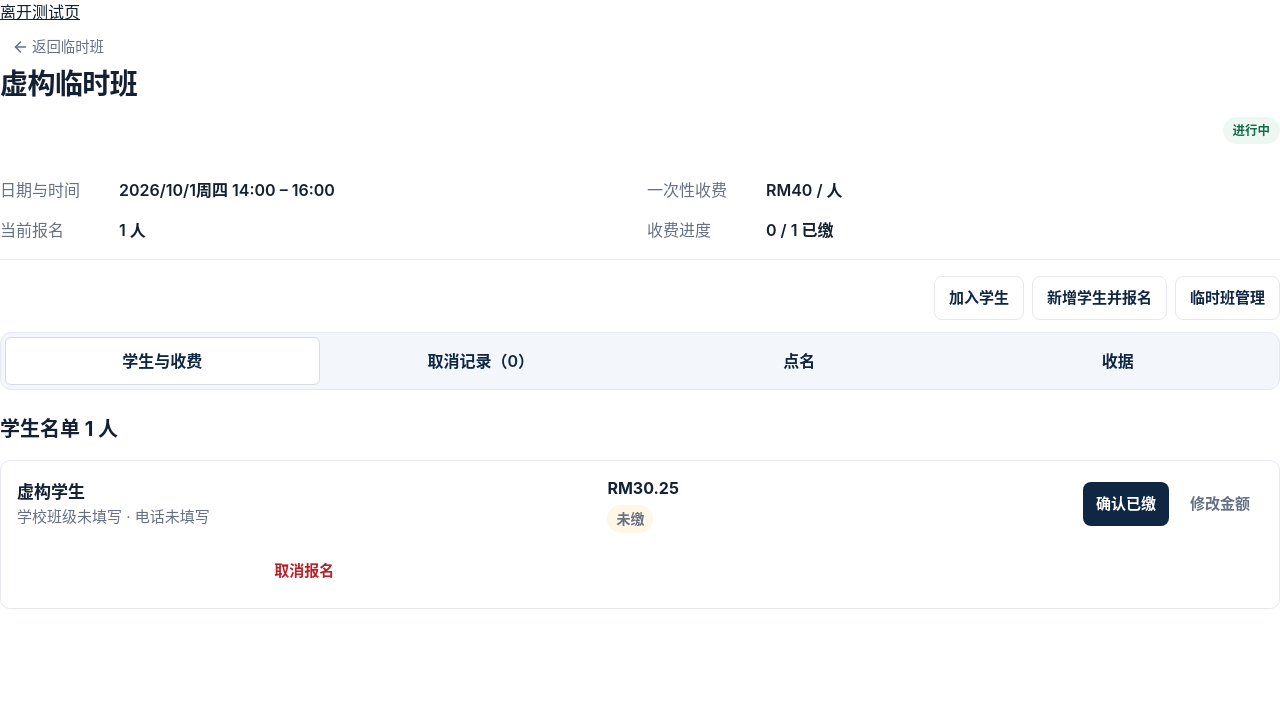
Test: a cross-client cancellation refresh cannot unmount an open confirmation or silently discard its conflict feedback
Click the button "取消报名" at (304, 570), box [17, 548, 591, 592]
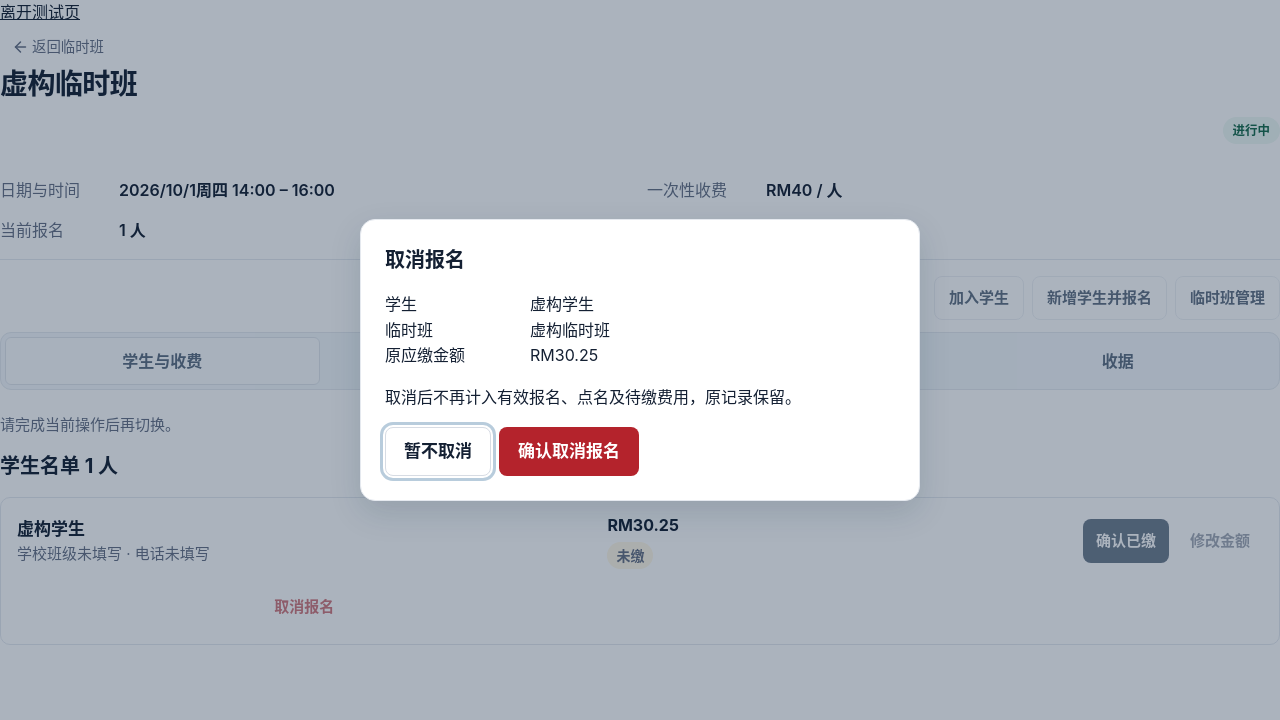
Result: the dialog is shown at [360, 219, 920, 501]
Click the button "确认取消报名" at (569, 451), box [499, 427, 639, 476]
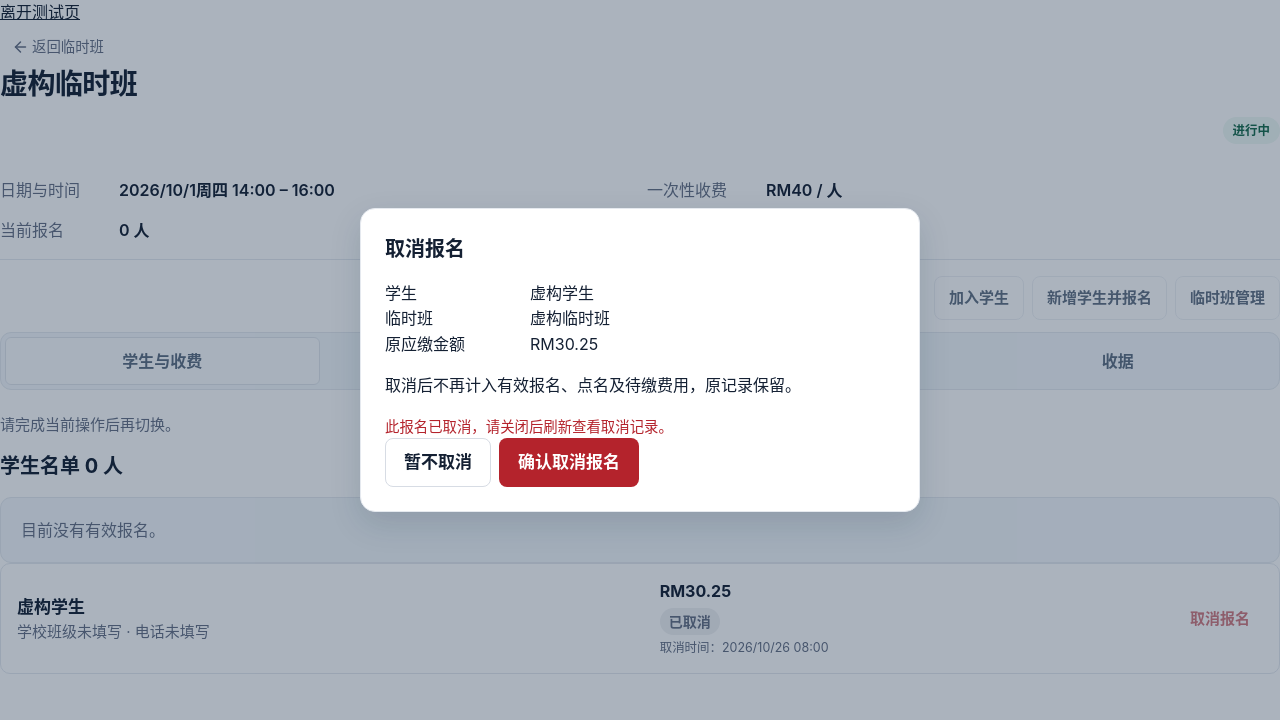
Result: the message shows "此报名已取消" at [385, 418, 673, 435]
Click the button "暂不取消" at (438, 463), box [385, 438, 491, 487]
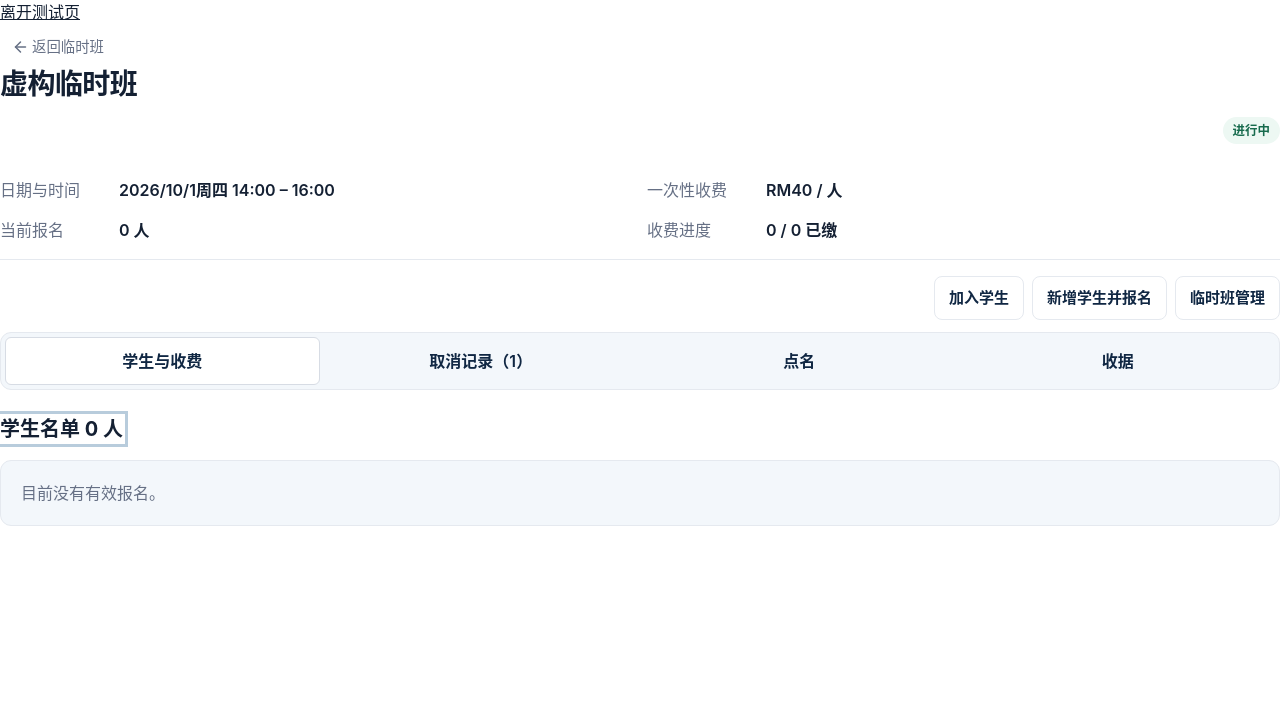
Result: the dialog is gone
Result: the button "取消报名" is gone
